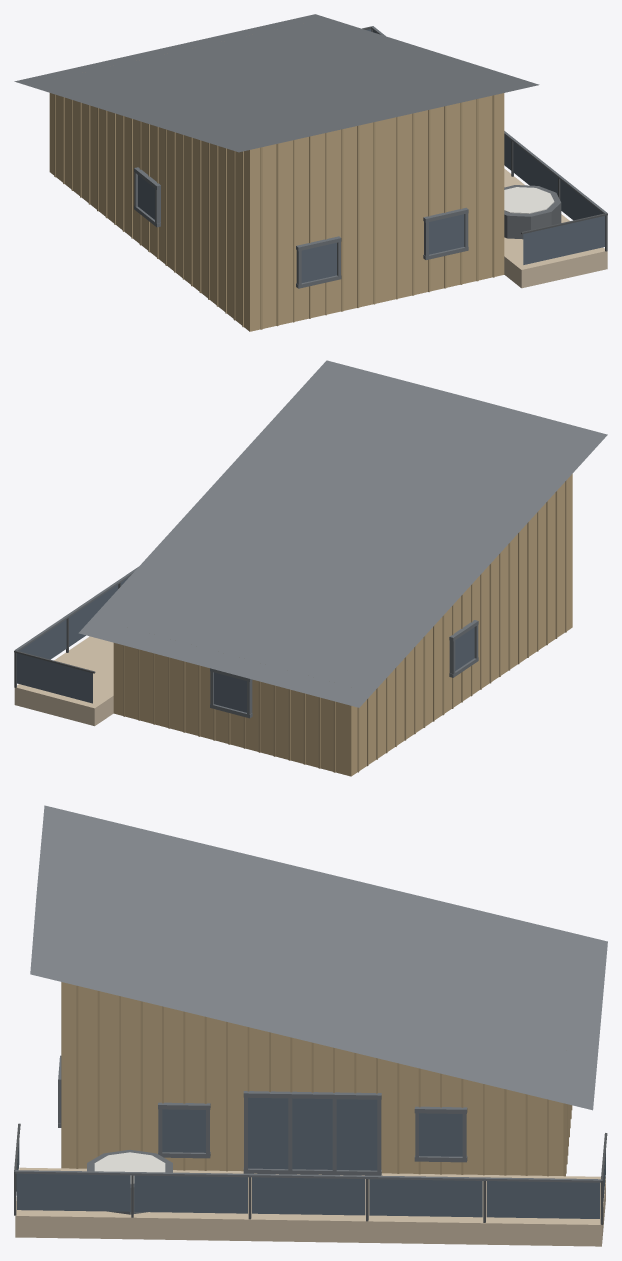
3 renders of one model, top to bottom at view 1: azimuth 30°, elevation 25°; view 2: azimuth 150°, elevation 25°; view 3: azimuth 270°, elevation 25°, orthographic. The views are drawn at different scales.
Parts seen in each view (by area): view 1: door_wood, slate, door_wood_p, larch, slate_dk, window_glass_006, band_dark, window_glass_013, window_glass_016, window_glass_002, string, window_glass_001 (+2 smaller); view 2: slate, door_wood, door_wood_p, larch, window_glass_007, slate_dk, window_glass_014, window_glass_005, window_glass_004, window_glass_015; view 3: slate, door_wood, larch, slate_dk, door_wood_p, window_glass_001, window_glass_002, window_glass_004, window_glass_003, window_glass_005, window_glass_010, window_glass_009 (+6 smaller).
Part boxes in pixels (<box>): door_wood: <box>49,93,504,331</box>; slate: <box>14,14,539,152</box>; door_wood_p: <box>54,94,494,329</box>; larch: <box>504,168,607,288</box>; slate_dk: <box>134,26,607,288</box>; window_glass_006: <box>523,216,605,264</box>; band_dark: <box>504,185,561,239</box>; window_glass_013: <box>429,214,464,254</box>; window_glass_016: <box>301,243,336,282</box>; window_glass_002: <box>513,142,557,195</box>; string: <box>504,187,554,213</box>; window_glass_001: <box>560,180,602,220</box>; slate: <box>78,360,607,707</box>; door_wood: <box>113,474,572,776</box>; door_wood_p: <box>123,480,566,772</box>; larch: <box>14,636,113,726</box>; window_glass_007: <box>16,653,92,703</box>; slate_dk: <box>14,567,478,718</box>; window_glass_014: <box>214,672,246,712</box>; window_glass_005: <box>19,619,66,659</box>; window_glass_004: <box>69,584,118,646</box>; window_glass_015: <box>455,627,474,670</box>; slate: <box>30,805,607,1110</box>; door_wood: <box>62,982,563,1175</box>; larch: <box>15,1167,605,1246</box>; slate_dk: <box>15,1055,601,1182</box>; door_wood_p: <box>61,982,572,1176</box>; window_glass_001: <box>17,1173,130,1211</box>; window_glass_002: <box>134,1175,247,1213</box>; window_glass_004: <box>369,1179,482,1217</box>; window_glass_003: <box>252,1177,365,1215</box>; window_glass_005: <box>486,1181,599,1218</box>; window_glass_010: <box>336,1099,377,1170</box>; window_glass_009: <box>292,1098,332,1169</box>.
Bounding box in the file's own units: 10.59 × 5.29 × 12.49.
